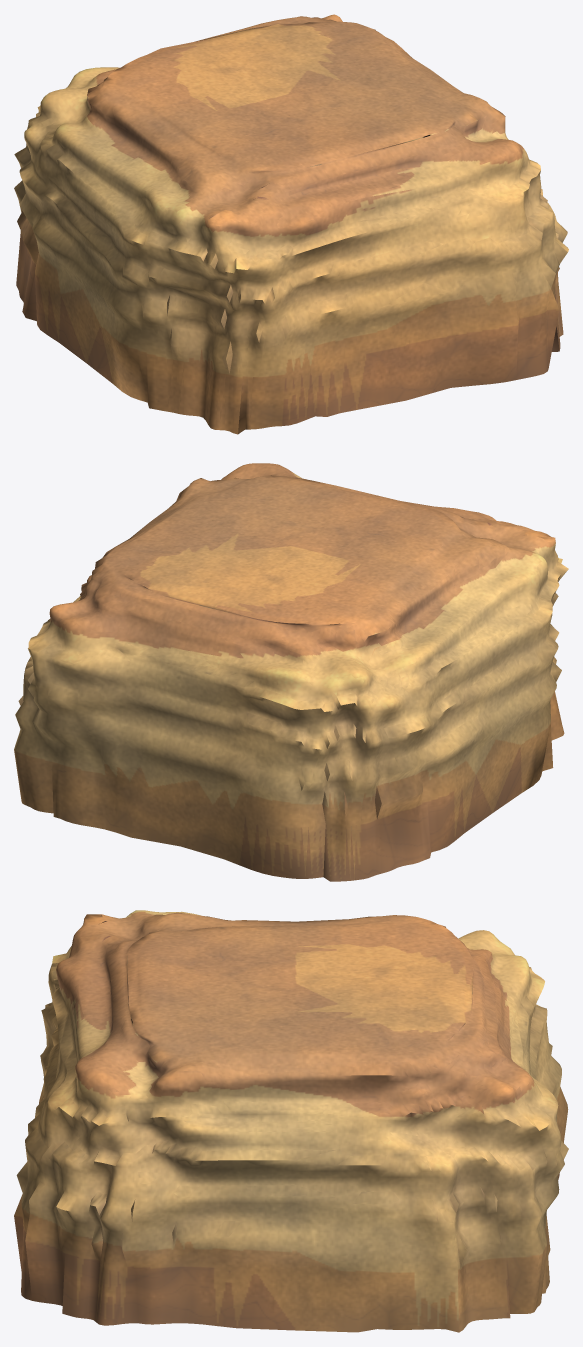
The model's file is WM_MesaSandstone_A.fbx.
3 views of the same model, one above another, from view 1: azimuth 30°, elevation 25°; view 2: azimuth 150°, elevation 25°; view 3: azimuth 270°, elevation 25° (orthographic). The views are drawn at different scales.
Parts seen in each view (by area): view 1: WM_MesaSandstone_A_LOD0; view 2: WM_MesaSandstone_A_LOD0; view 3: WM_MesaSandstone_A_LOD0.
Boxes of the visible parts, x1,y1,x2,y2 form: WM_MesaSandstone_A_LOD0: (14, 14, 568, 434); WM_MesaSandstone_A_LOD0: (14, 463, 568, 881); WM_MesaSandstone_A_LOD0: (14, 910, 568, 1332).
Size of what is drawn, in the model's own units: 1.89 by 1 by 1.97.
